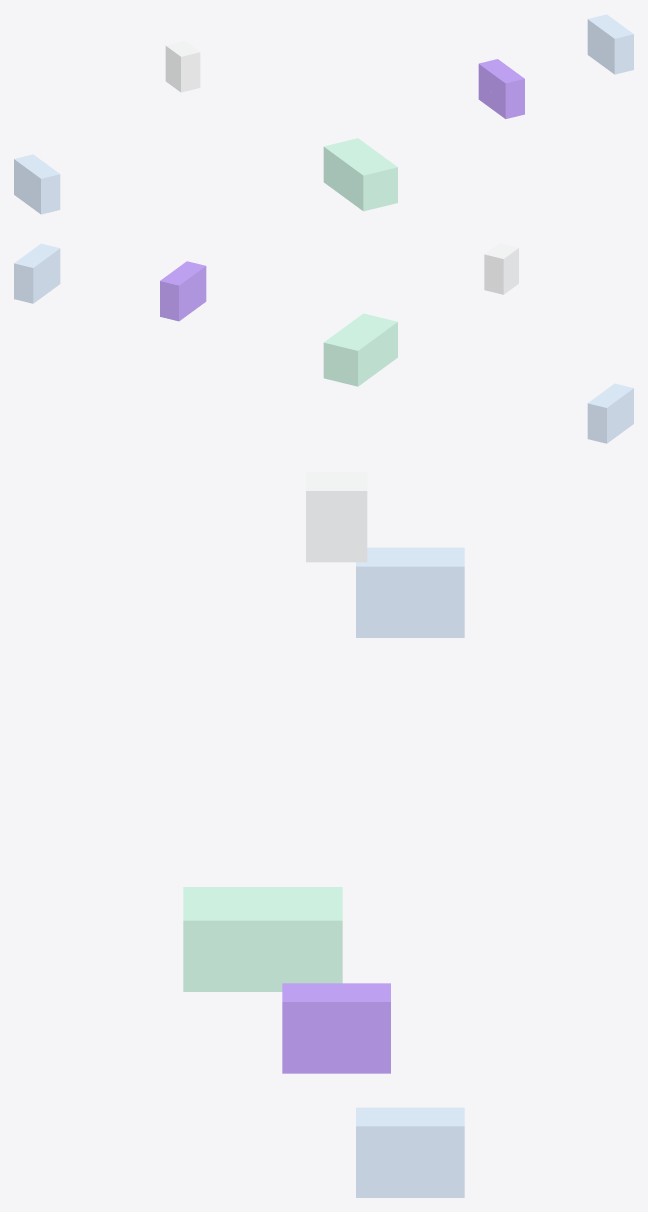
The picture shows the model from 3 angles, top to bottom: view 1: azimuth 30°, elevation 25°; view 2: azimuth 150°, elevation 25°; view 3: azimuth 270°, elevation 25°; orthographic projection. The views are drawn at different scales.
Visible parts, largest first — view 1: Experts ×4, Tokens / embedding, Normalization / output, Weighted combine, Router + top-2; view 2: Experts ×4, Normalization / output, Tokens / embedding, Weighted combine, Router + top-2; view 3: Experts ×4, Normalization / output, Weighted combine, Tokens / embedding, Router + top-2.
Part boxes in pixels (x1,y1,x2,y2): Experts ×4: (323, 138, 397, 211); Tokens / embedding: (14, 154, 60, 214); Normalization / output: (587, 14, 633, 74); Weighted combine: (478, 59, 524, 118); Router + top-2: (165, 41, 200, 92); Experts ×4: (323, 313, 397, 386); Normalization / output: (14, 243, 60, 303); Tokens / embedding: (587, 383, 633, 443); Weighted combine: (160, 261, 206, 321); Router + top-2: (484, 243, 518, 294); Experts ×4: (183, 887, 342, 991); Normalization / output: (356, 1107, 464, 1197); Weighted combine: (282, 983, 390, 1073); Tokens / embedding: (356, 547, 464, 637); Router + top-2: (306, 472, 367, 562).
Size of the model in its own units: 34.42 by 9.38 by 7.07.
